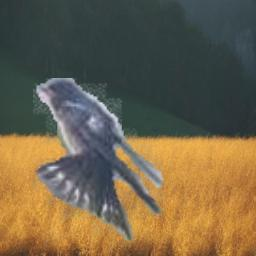Swallow: (33, 78, 163, 243)
